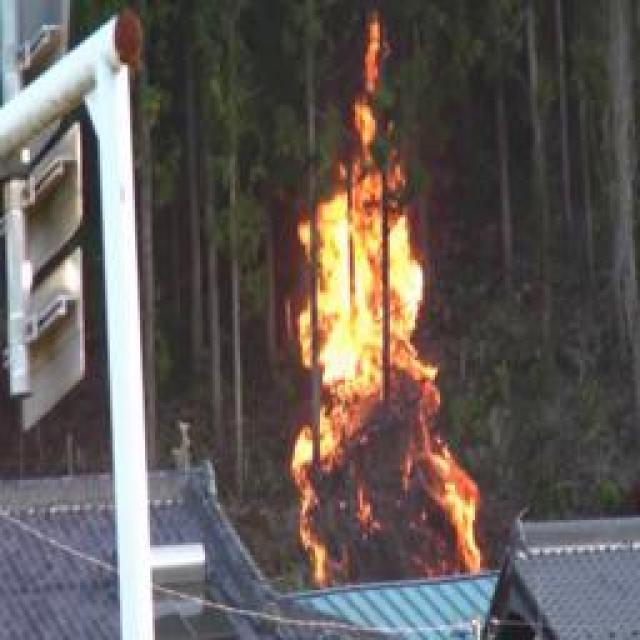Fire: (288, 22, 480, 592)
